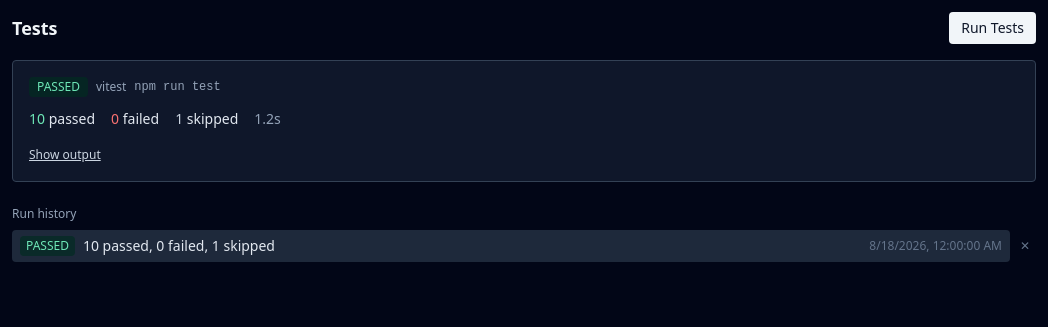
Test case: TestsPage › renders a passed run's summary and output toggle
This screenshot has width=1048, height=327.
Expected: the text with test id "run-status" reads "passed", [37,78,80,95]
Expected: the text "10" is shown, [29,109,45,128]
Click the button "Show output" at (65, 155), box [29,147,101,163]
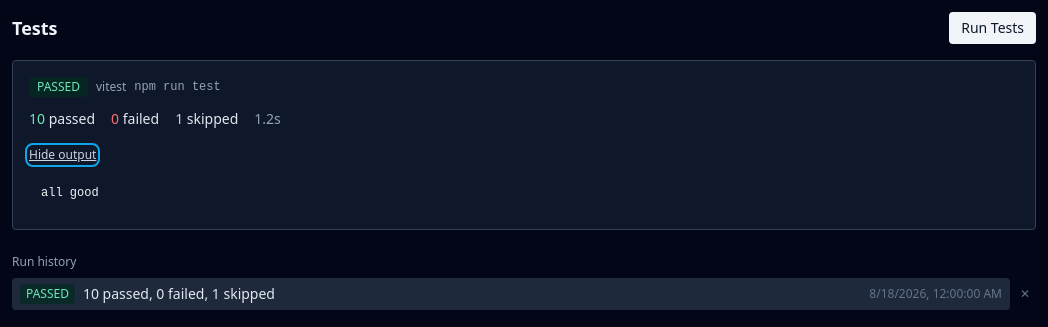
Expected: the text "all good" is shown, [29,173,1019,213]
